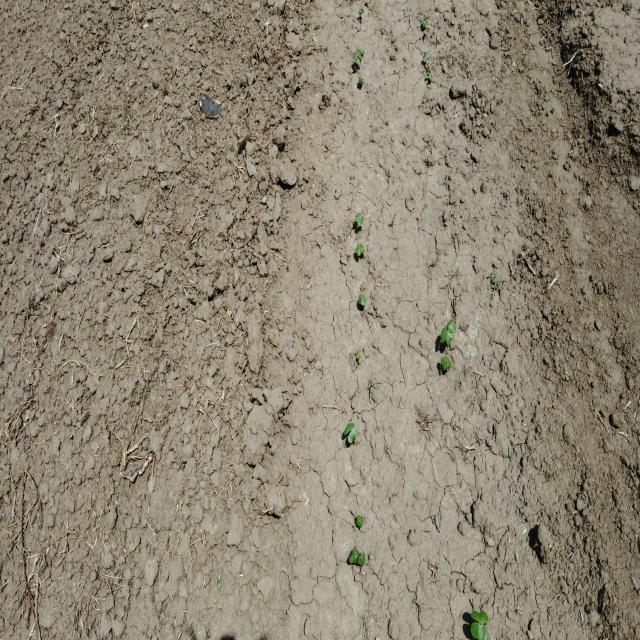seedling: (470, 622, 488, 640), (471, 610, 488, 623), (344, 422, 355, 435), (348, 428, 357, 443), (349, 546, 356, 563), (440, 326, 447, 343), (446, 328, 453, 344), (358, 551, 365, 566), (358, 294, 366, 306), (446, 317, 455, 327), (354, 549, 360, 563), (440, 356, 446, 370), (449, 323, 457, 333), (357, 216, 364, 226), (356, 518, 363, 528), (446, 357, 451, 370), (359, 244, 365, 254), (356, 244, 361, 256), (353, 54, 359, 63), (355, 213, 361, 220), (356, 53, 362, 59), (422, 21, 428, 27), (423, 53, 429, 59), (357, 515, 363, 520), (358, 48, 362, 55), (358, 78, 362, 85), (429, 73, 432, 81), (426, 72, 429, 78), (359, 10, 363, 14), (362, 49, 364, 55)
